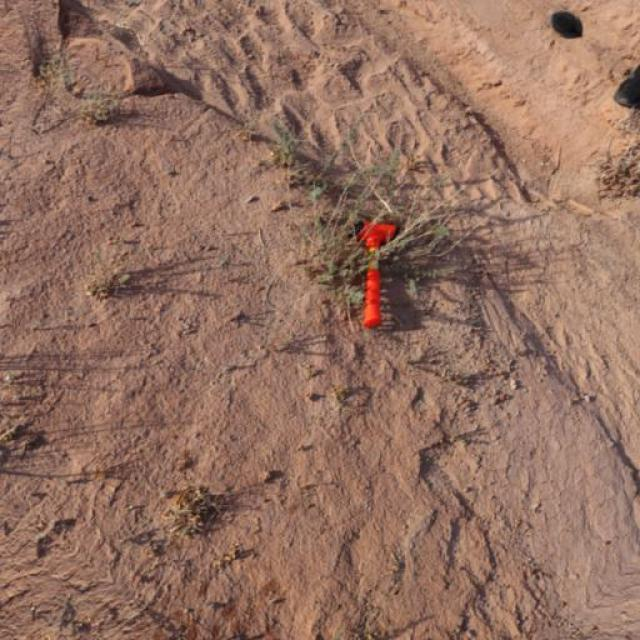mallet: (354, 218, 396, 328)
